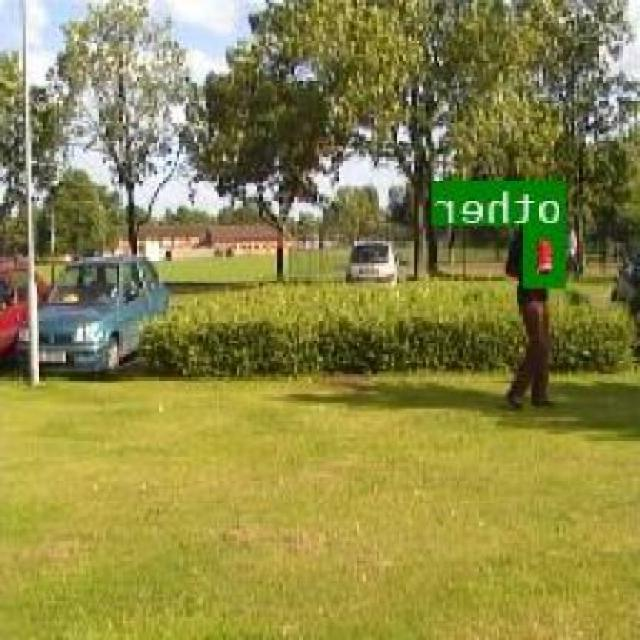other: (526, 226, 568, 286)
